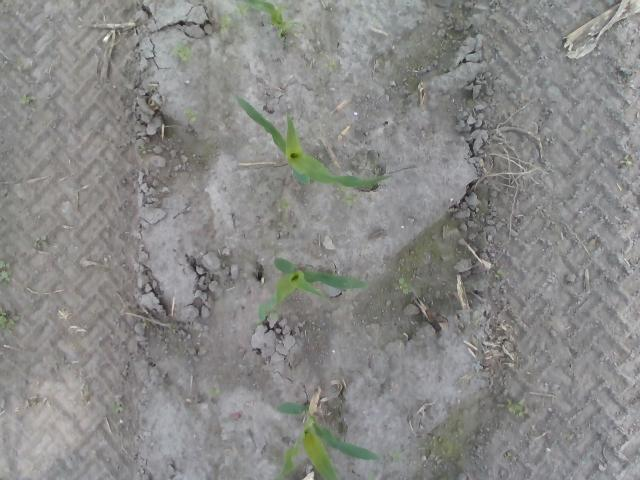Maize: (235, 93, 392, 188), (273, 401, 382, 480), (254, 256, 368, 326), (244, 1, 301, 44)
Weeds: (220, 11, 237, 37), (505, 399, 527, 417), (170, 42, 190, 61), (181, 108, 200, 125), (0, 312, 20, 328), (342, 191, 360, 207), (394, 279, 411, 295), (32, 236, 49, 252), (322, 58, 337, 74), (0, 260, 11, 281), (19, 96, 37, 106), (619, 154, 633, 166), (208, 384, 220, 398), (113, 402, 125, 416), (278, 200, 290, 214), (388, 451, 402, 463), (584, 127, 597, 137), (494, 268, 506, 278)
